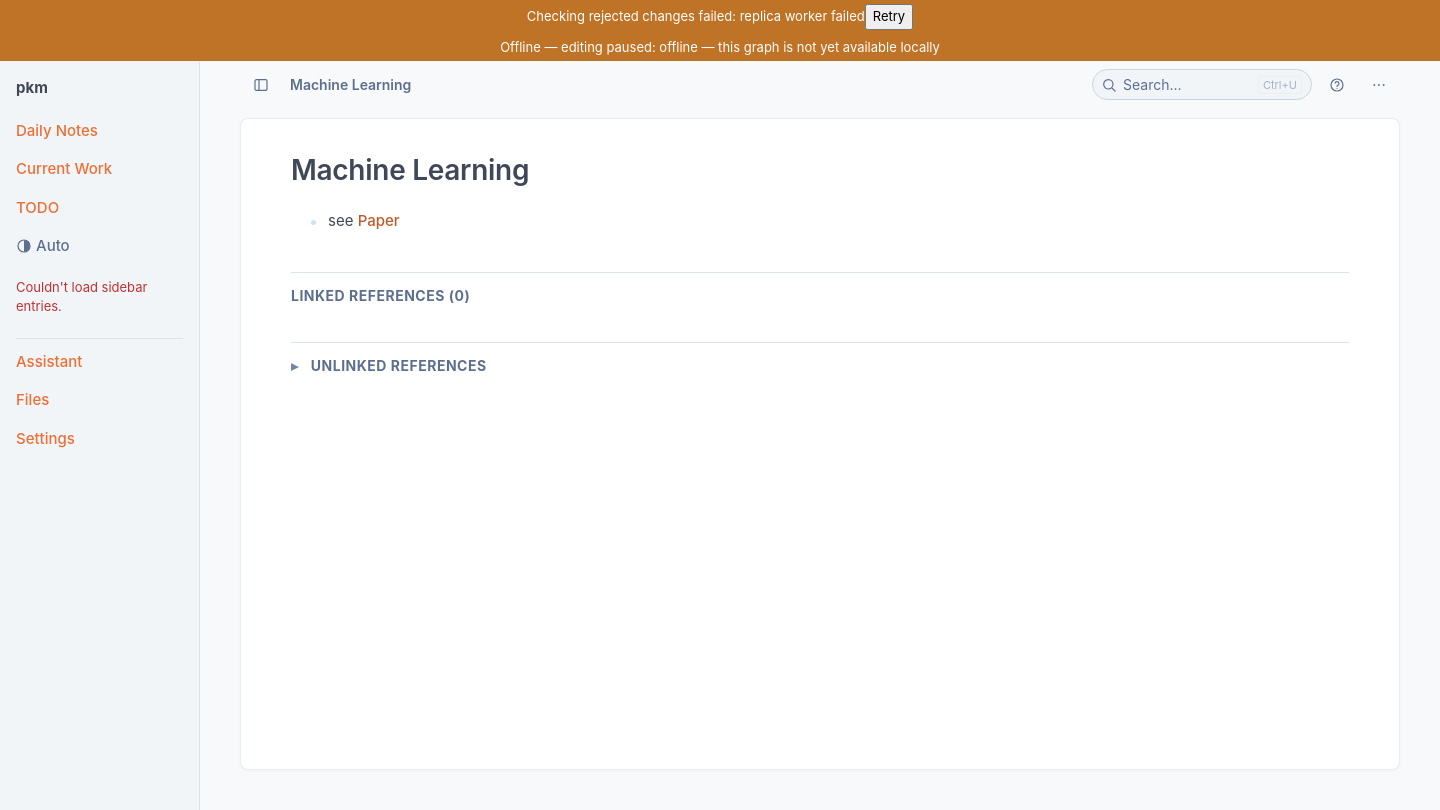
Scenario: ctrl-/ also toggles the right sidebar
Click the link "Paper". click: (379, 220)
box: [358,211,400,230]
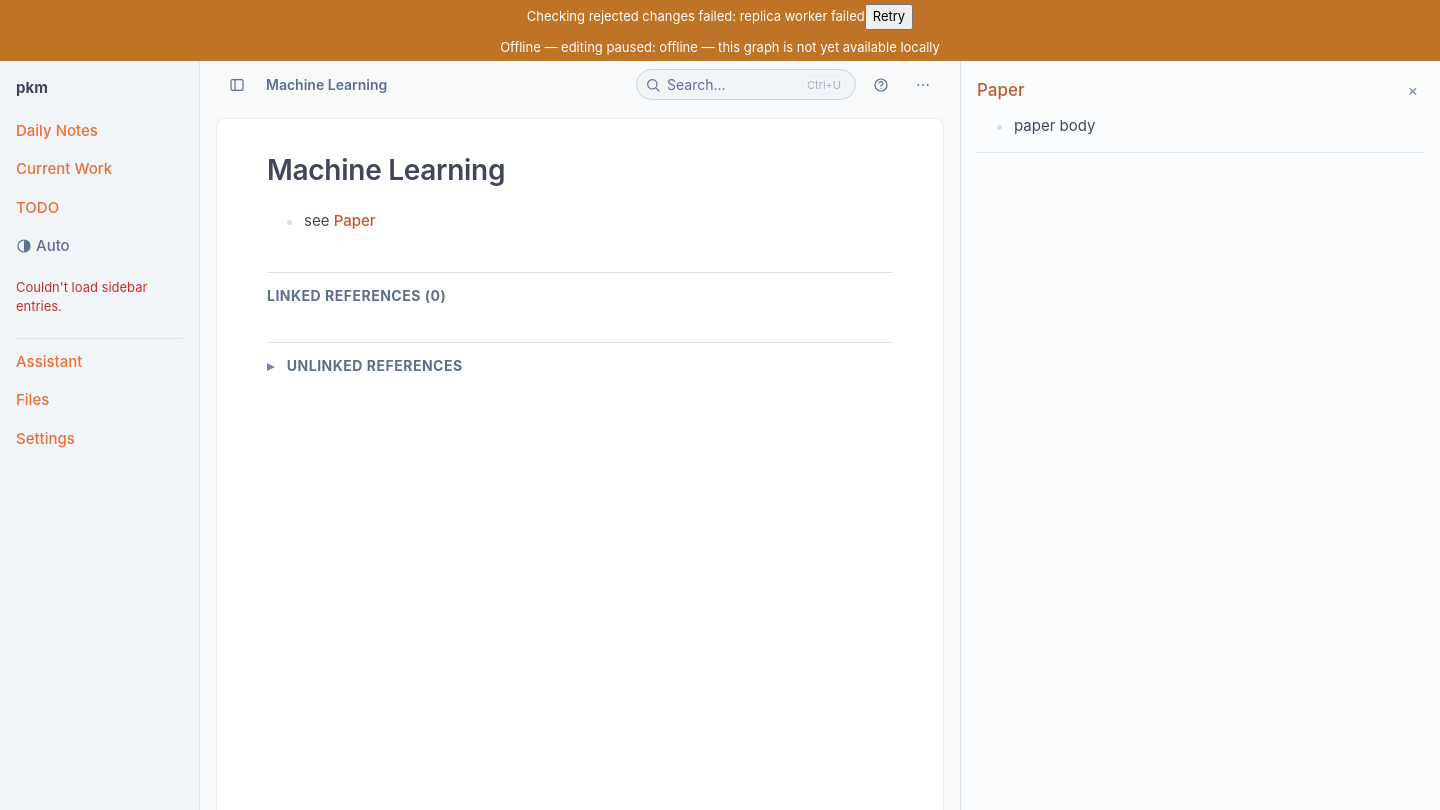
Now the text "paper body" is shown, box [1014,116,1095,134]
Press /
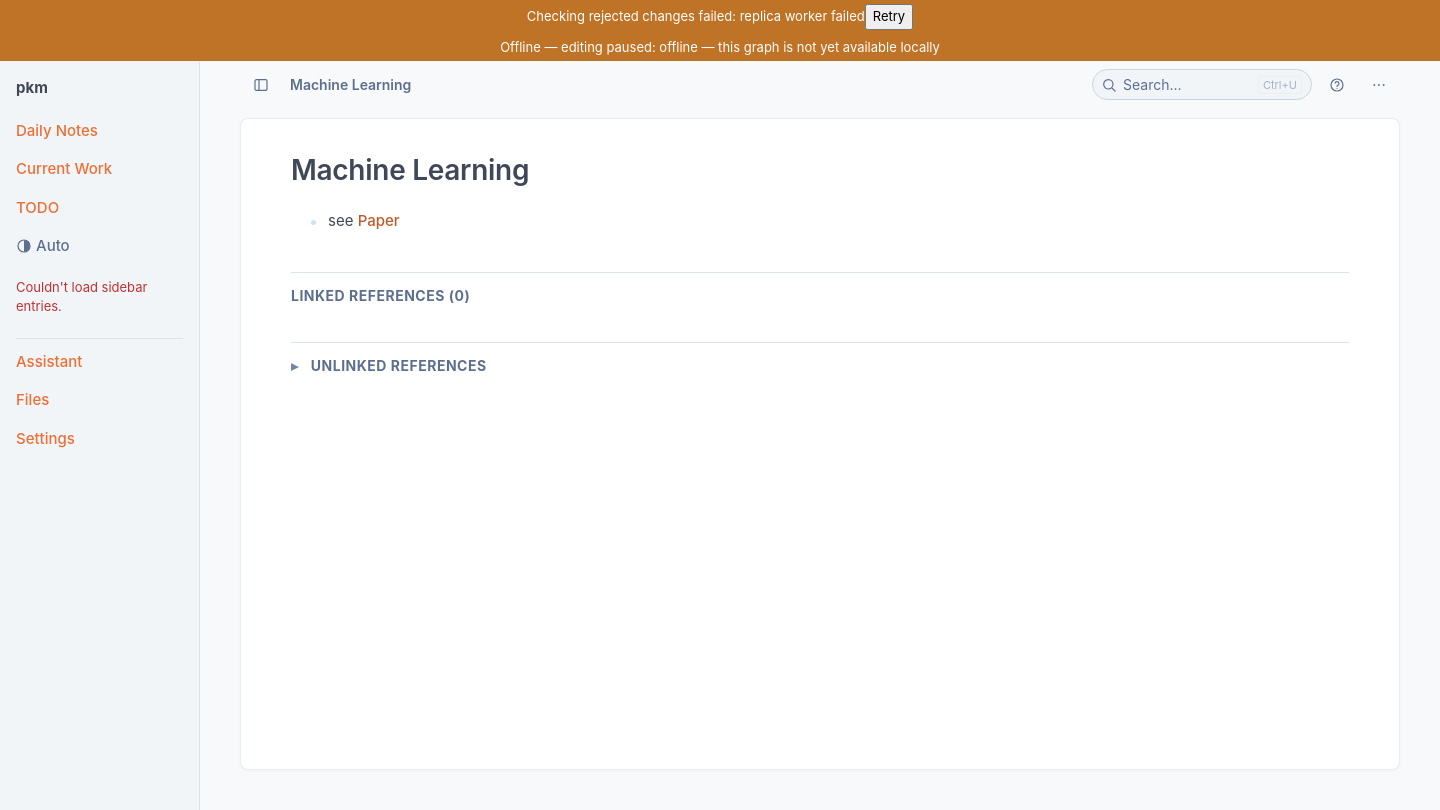
Now the text "paper body" is gone
